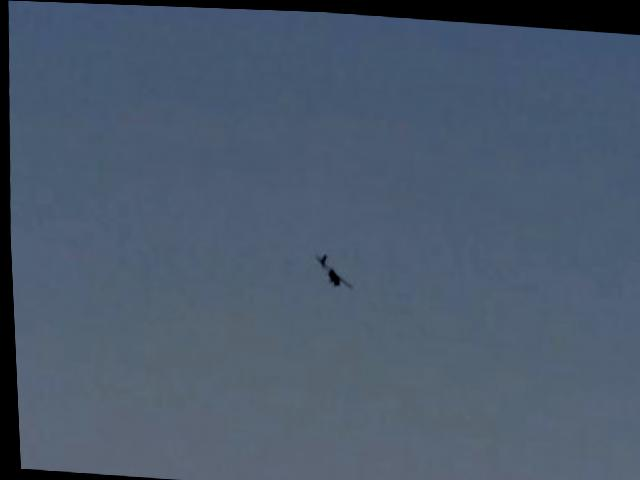uav: (308, 243, 356, 294)
